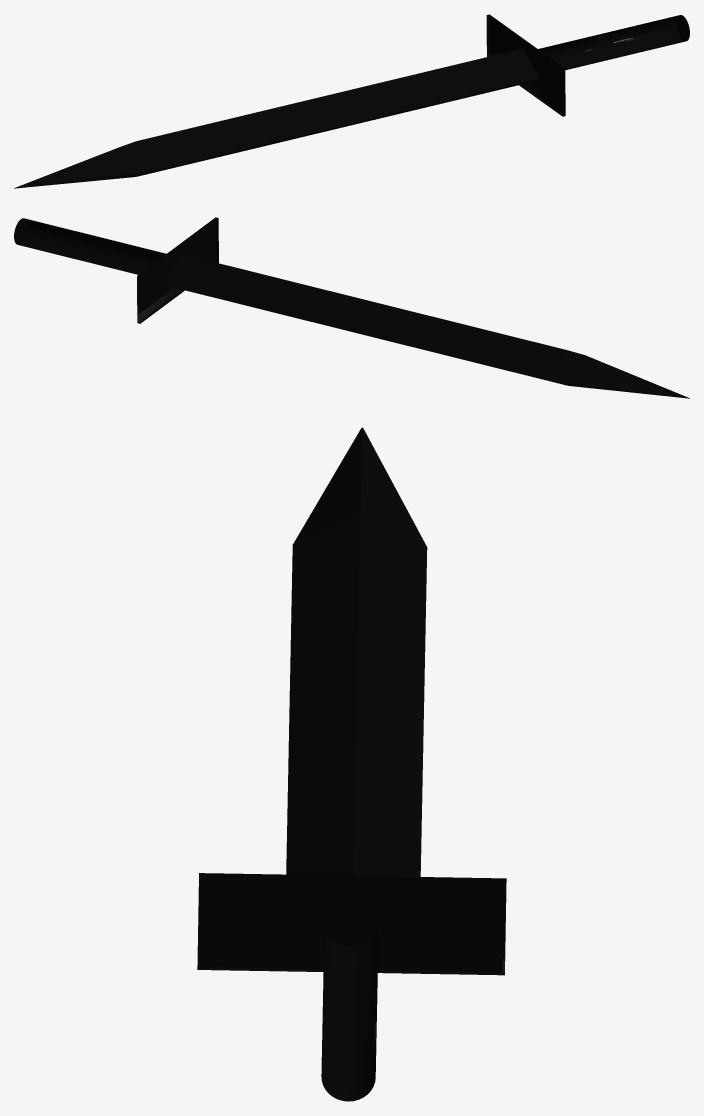
The model's file is sword.obj.
The picture shows the model from 3 angles, top to bottom: view 1: azimuth 30°, elevation 25°; view 2: azimuth 150°, elevation 25°; view 3: azimuth 270°, elevation 25°; orthographic projection. The views are drawn at different scales.
Visible parts, largest first — view 1: Plane; view 2: Plane; view 3: Plane.
Boxes of the visible parts, <box> form: Plane: <box>14,14,689,188</box>; Plane: <box>14,217,689,398</box>; Plane: <box>197,427,506,1101</box>.
Bounding box in the file's own units: 3.84 × 0.2711 × 0.7728.
Materials: 2 (2 with a texture image).
